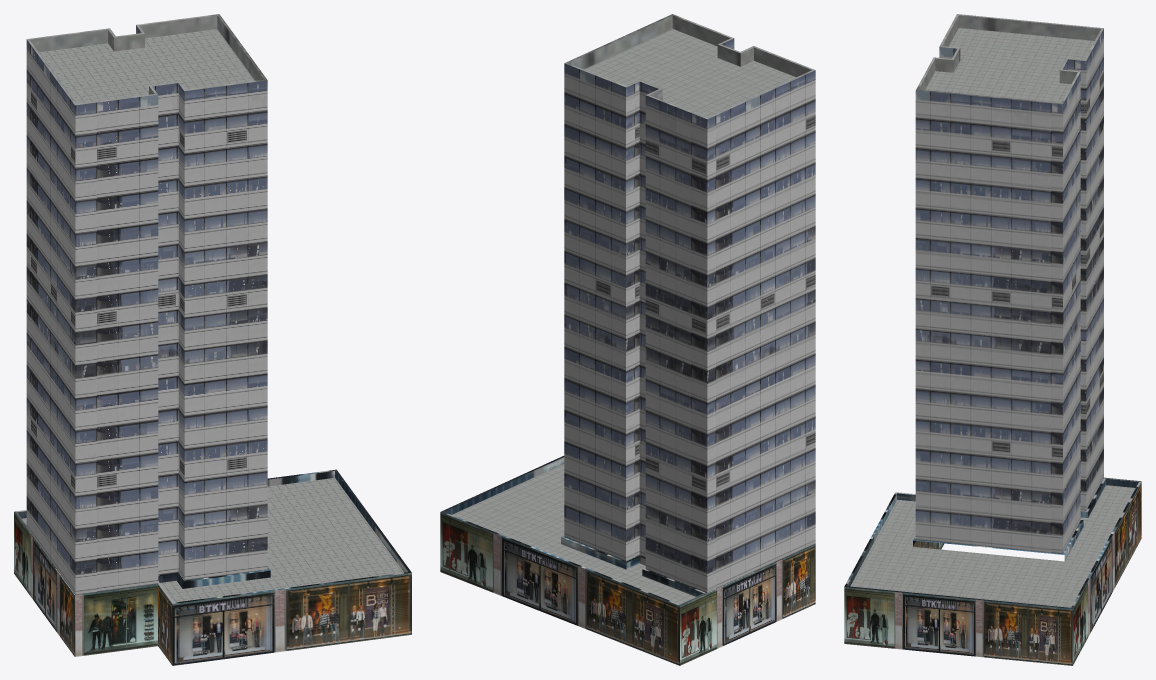
3 views of the same model, side by side, from view 1: azimuth 30°, elevation 25°; view 2: azimuth 150°, elevation 25°; view 3: azimuth 270°, elevation 25° (orthographic). The views are drawn at different scales.
Visible parts, largest first — view 1: JZ_JX_05; view 2: JZ_JX_05; view 3: JZ_JX_05.
Boxes of the visible parts, x1,y1,x2,y2 form: JZ_JX_05: [14, 14, 411, 665]; JZ_JX_05: [440, 14, 815, 665]; JZ_JX_05: [844, 14, 1141, 665].
Size of the model in its own units: 6744 by 10941 by 5828.
4 materials, 4 textured.
